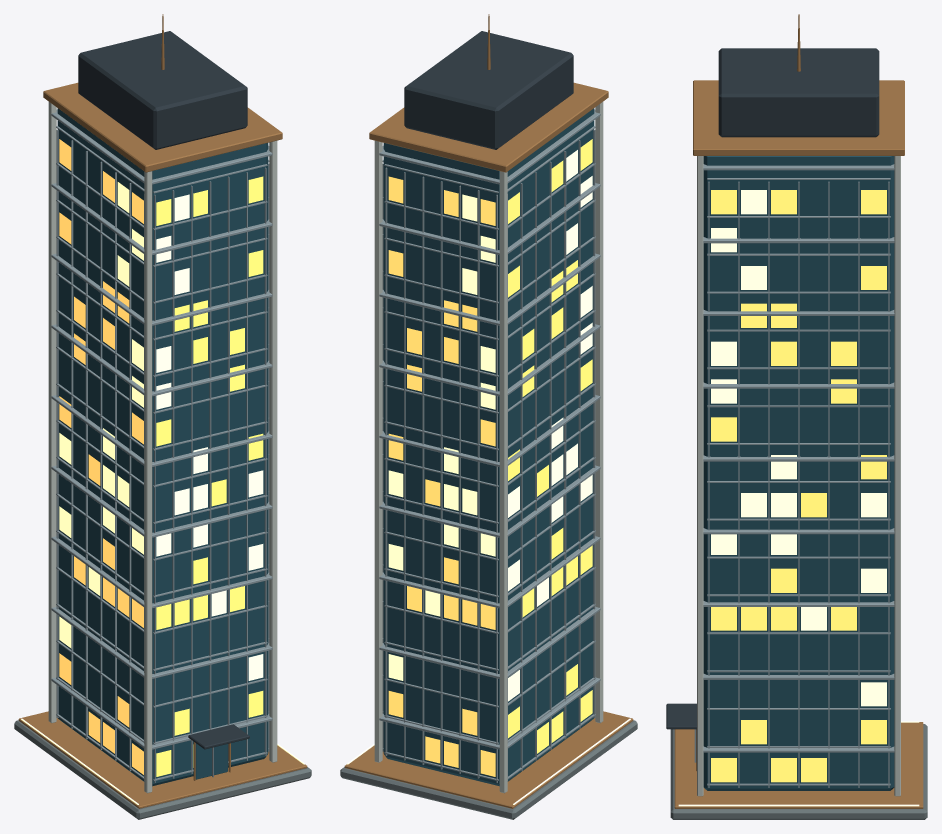
File: data-tower-b.lod0.glb
3 renders of one model, left to right at view 1: azimuth 30°, elevation 25°; view 2: azimuth 150°, elevation 25°; view 3: azimuth 270°, elevation 25°, orthographic. The views are drawn at different scales.
Visible parts, largest first — view 1: structure; view 2: structure; view 3: structure.
Part boxes in pixels (box(x1,y1,x2,y2)): structure: box(14, 14, 311, 819); structure: box(340, 14, 637, 819); structure: box(666, 14, 927, 819).
Size of the model in its own units: 13 by 52.4 by 16.25.
